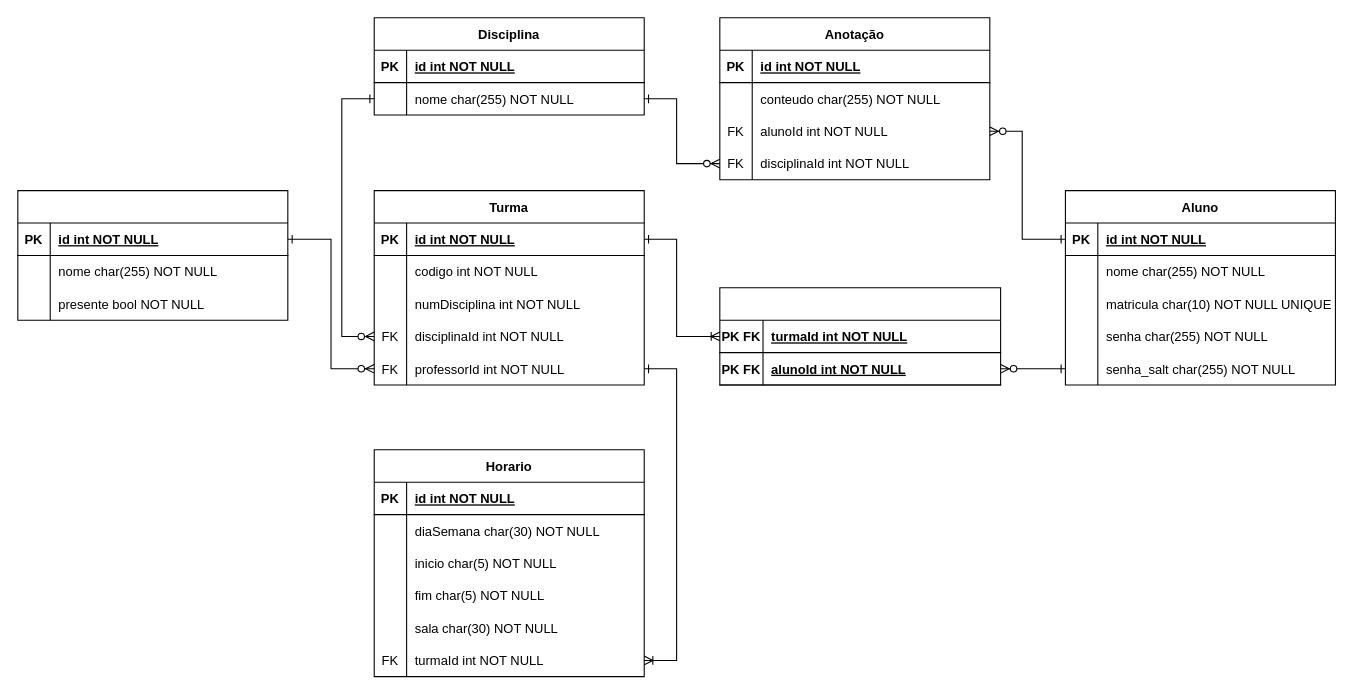
Image size: 1353x694. Some labels were removed from this diagram. The shapes that lost their labels are listed below. From the top down, each one's box as (x1, y1, x2, y2) in pixels, then its label:
(17, 190, 288, 320): Professor
(719, 287, 1001, 385): Inscrição
